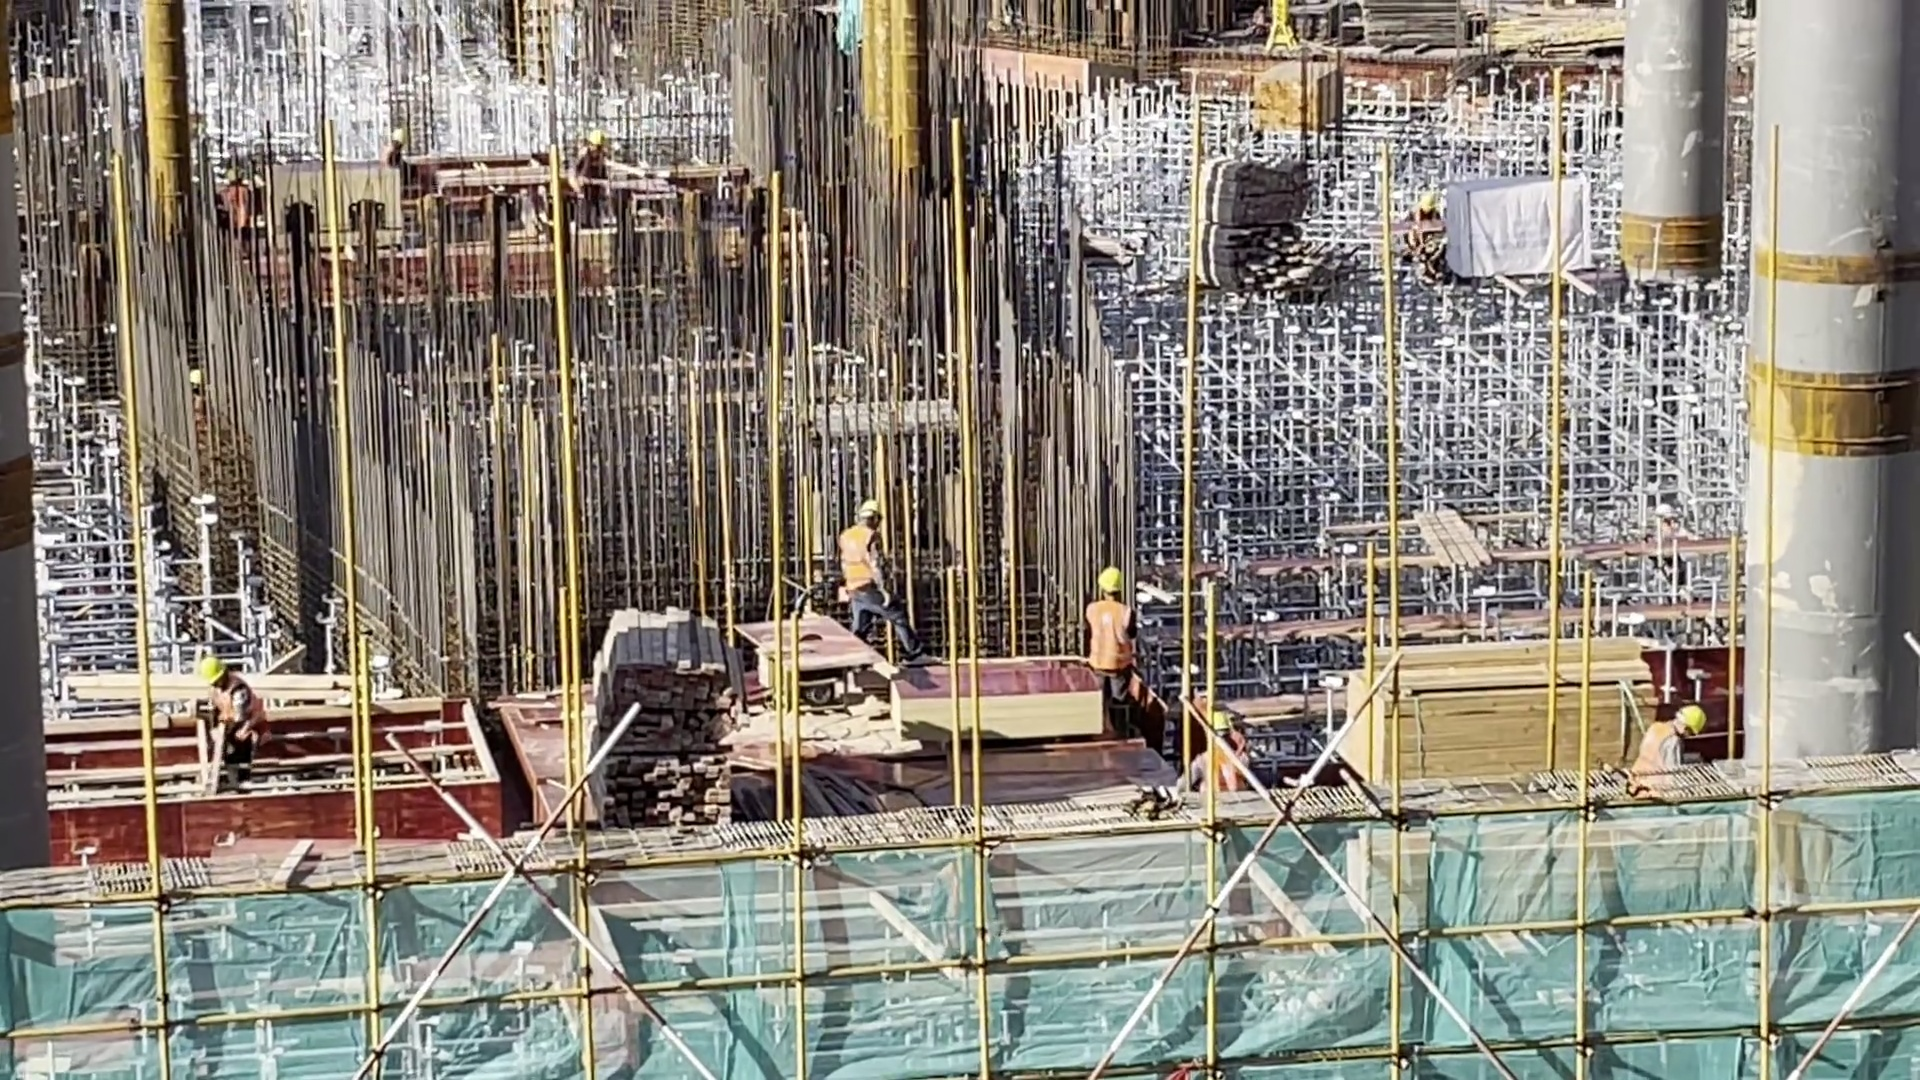board: (882, 661, 1108, 750)
ebox: (1260, 2, 1308, 63)
helmet: (1678, 703, 1707, 738), (198, 657, 230, 686), (1097, 568, 1125, 593), (856, 499, 885, 518)
person: (835, 499, 928, 655), (1084, 566, 1140, 739), (197, 656, 279, 763), (1621, 700, 1709, 766)
vest: (1084, 599, 1139, 673), (838, 522, 884, 592), (1630, 721, 1679, 768)
wood: (1343, 641, 1659, 772), (581, 605, 740, 827), (1251, 61, 1302, 131)
